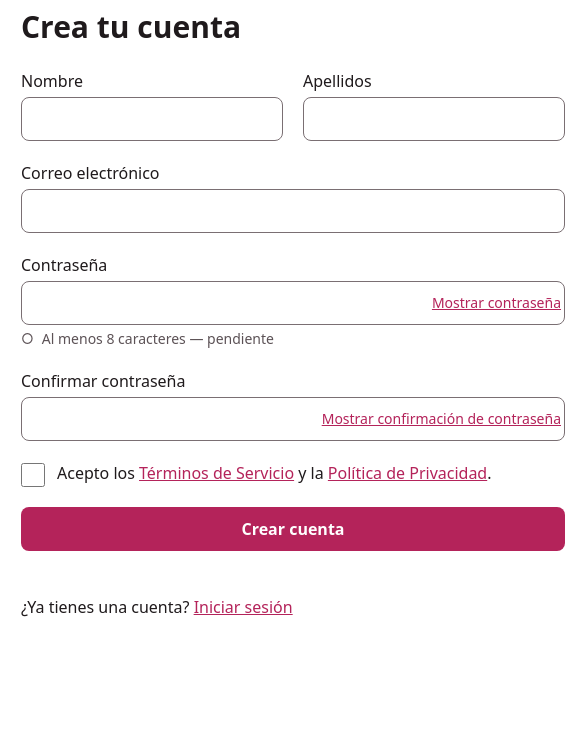
Test: RegisterPage › errors returned by the API › shows a general alert for 403 and keeps the form data
Step 1. Type "John" into the field labelled "Nombre" → (152, 119), box [21,97,283,141]
Step 2. Type "Doe" into the field labelled "Apellidos" → (434, 119), box [303,97,565,141]
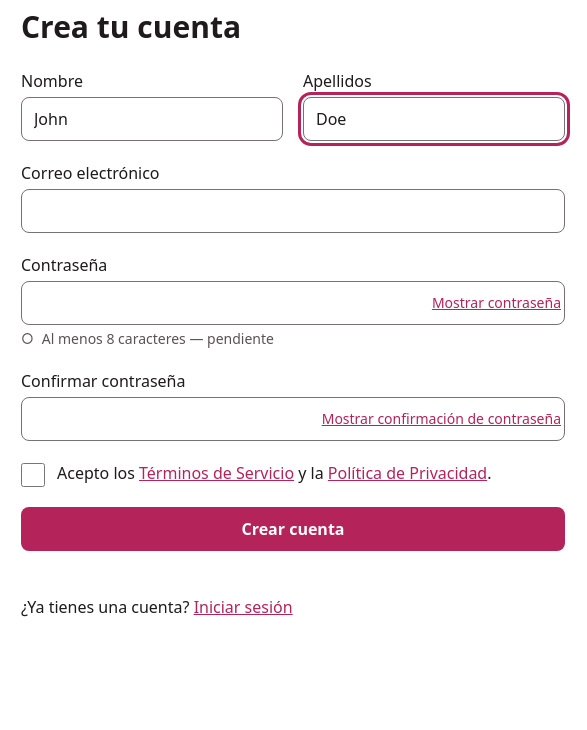
Step 3. Type "john@example.com" into the field labelled "Correo electrónico" → (293, 211), box [21,189,565,233]
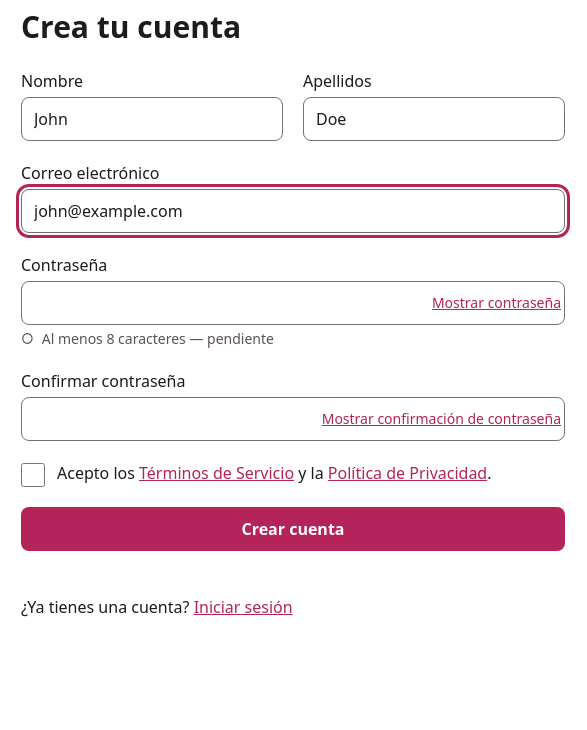
Step 4. Type "my-secure-passphrase" into the password field labelled "Contraseña" → (293, 303), box [21,281,565,325]
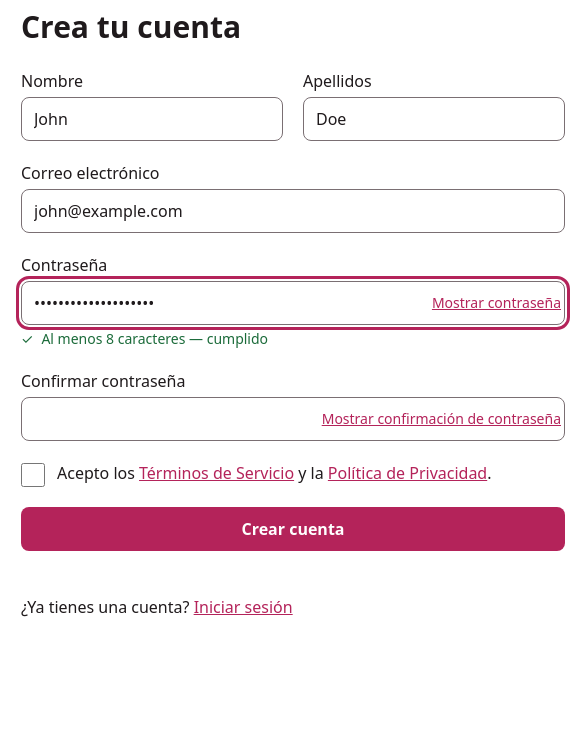
Step 5. Type "my-secure-passphrase" into the password field labelled "Confirmar contraseña" → (293, 419), box [21,397,565,441]
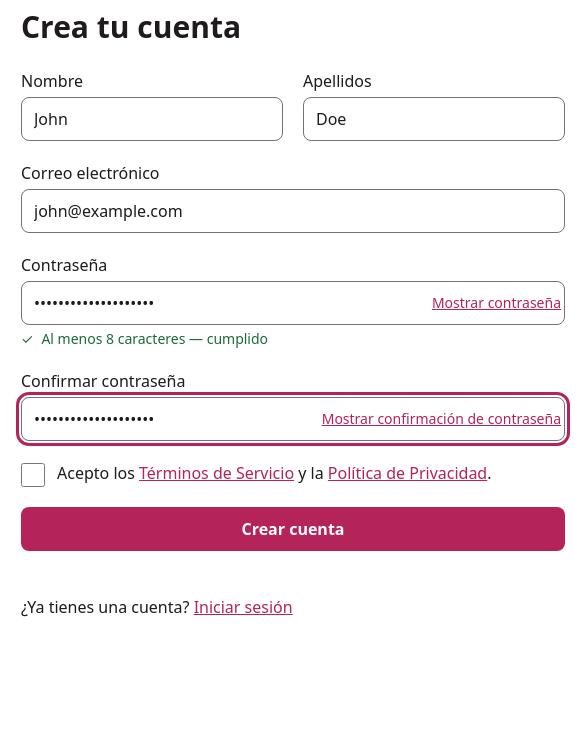
Step 6. Click the checkbox labelled "Acepto los" → (33, 475), box [21,463,45,487]
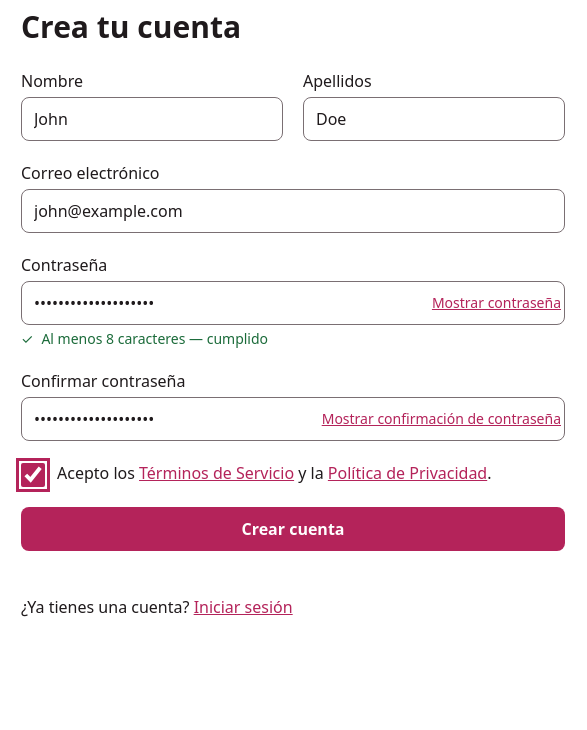
Step 7. Click the button "Crear cuenta" → (293, 529), box [21,507,565,551]
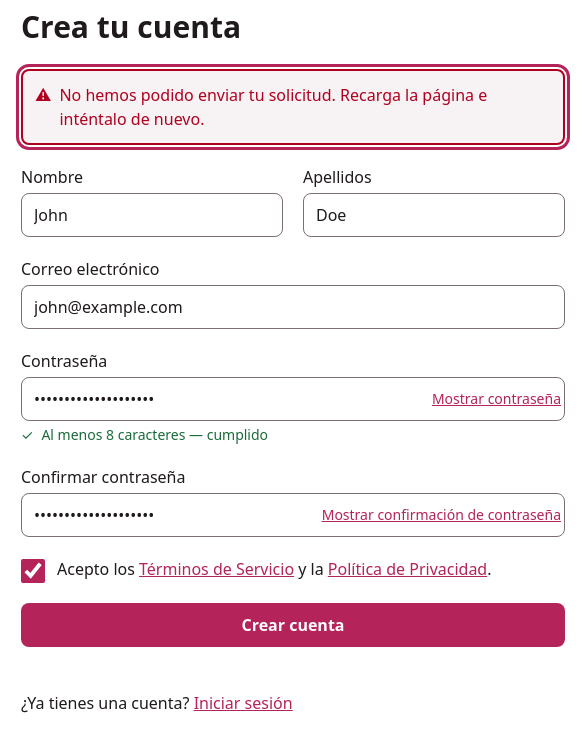
Expected: the message shows "No hemos podido enviar tu solicitud. Recarga la página e inténtalo de nuevo.", [59,84,487,130]
